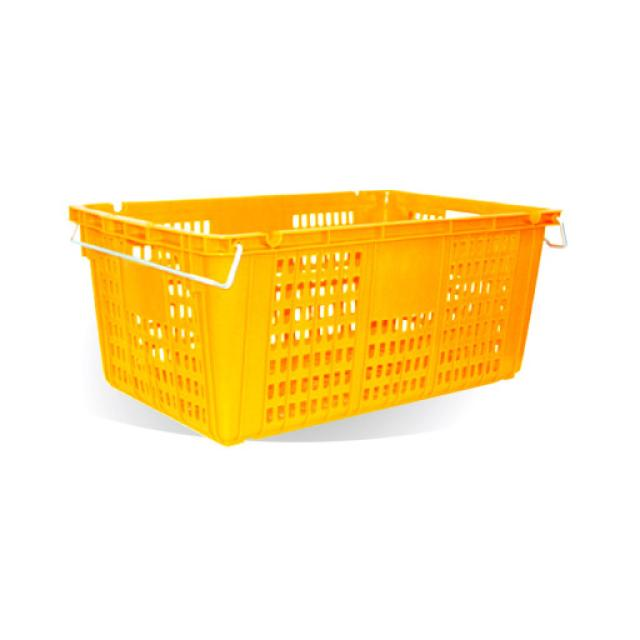basket: (67, 131, 590, 465)
